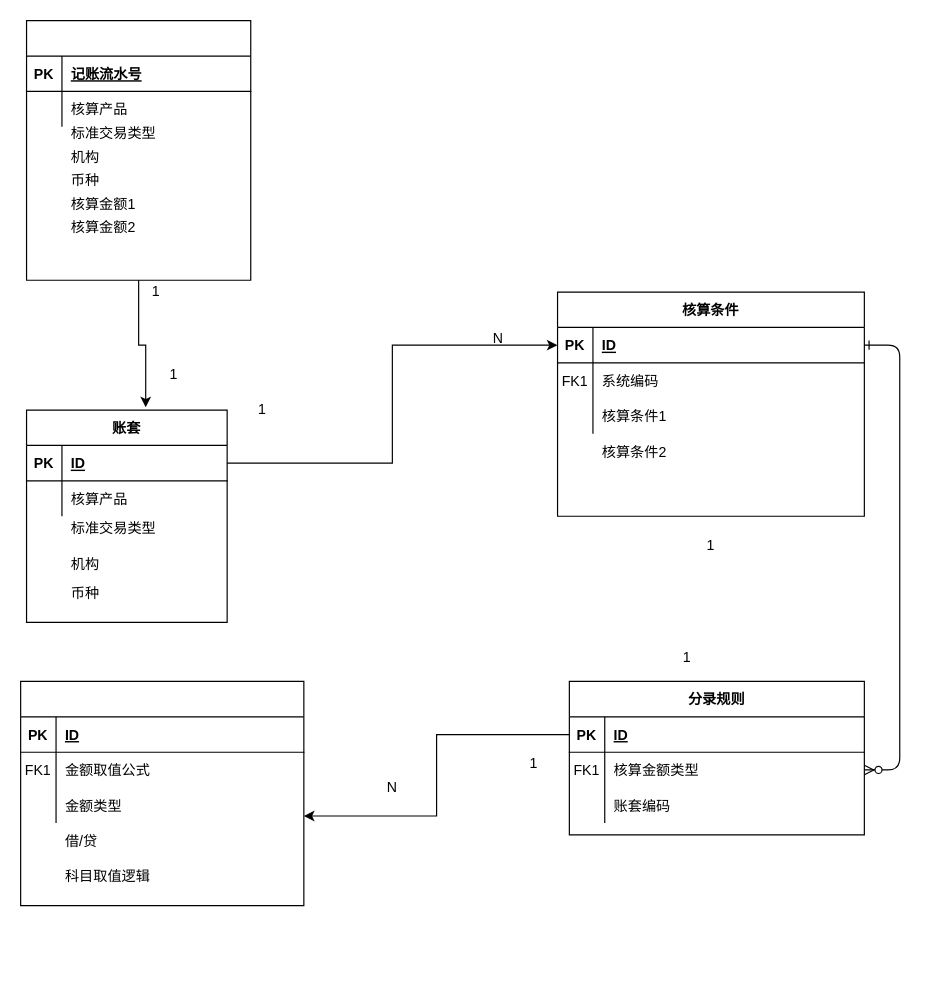
Some shapes in this 931 by 997 pixel diagram are drawn without their labels. Each missing label, with the box of its shape:
交易: (25, 19, 251, 280)
记账明细: (19, 680, 304, 906)
